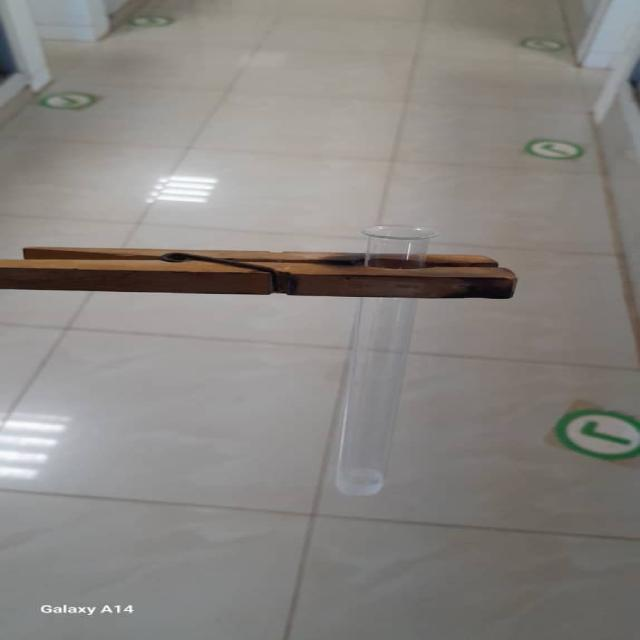Test Tube Holder: (28, 238, 535, 299)
